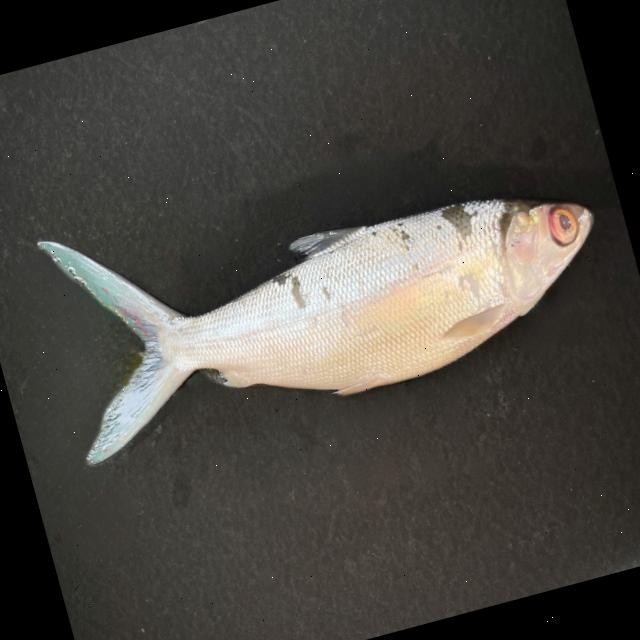690 g: (28, 100, 622, 467)
